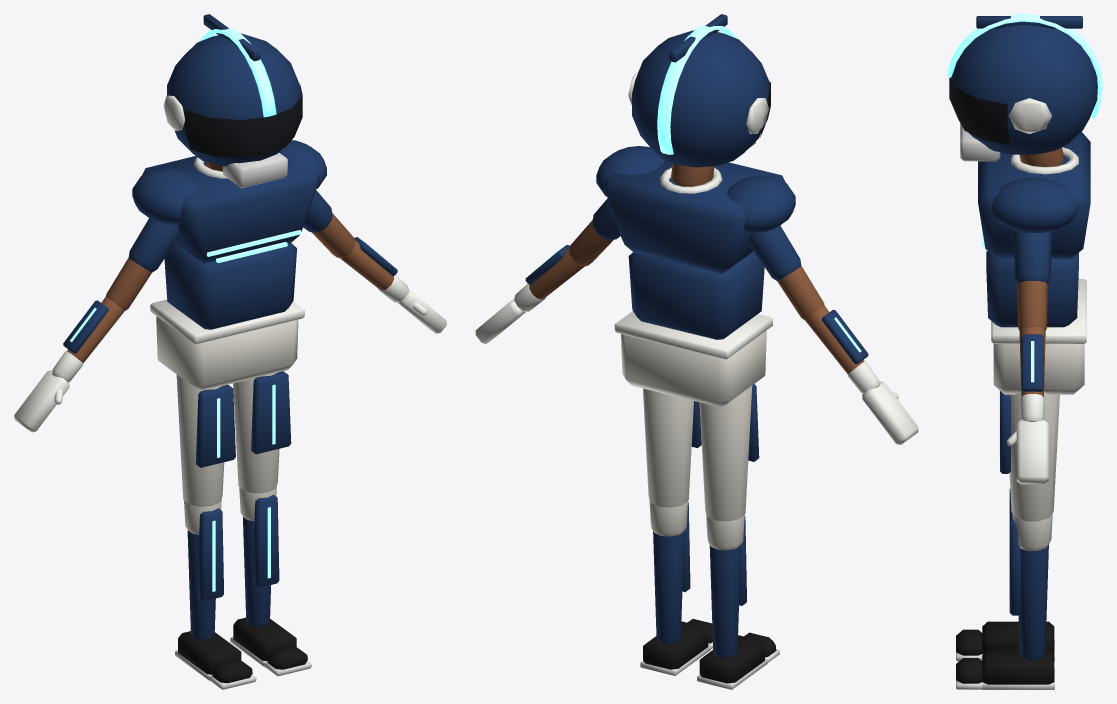
Rendered from future.glb.
The picture shows the model from 3 angles, left to right: view 1: azimuth 30°, elevation 25°; view 2: azimuth 150°, elevation 25°; view 3: azimuth 270°, elevation 25°; orthographic projection. The views are drawn at different scales.
Parts seen in each view (by area): view 1: head, thorax, pelvis, lumbar, thighR, thighL, shankL, shankR, upperArmR, forearmR, forearmL, footL (+6 smaller); view 2: thorax, head, pelvis, lumbar, thighR, thighL, shankL, shankR, upperArmR, forearmR, footR, footL (+5 smaller); view 3: head, thorax, shankL, pelvis, lumbar, thighL, upperArmL, footL, forearmL, handL, footR, toesL (+2 smaller).
Part boxes in pixels (<box>): head: <box>163,14,302,188</box>; thorax: <box>132,140,326,263</box>; pelvis: <box>150,299,304,391</box>; lumbar: <box>164,243,296,329</box>; thighR: <box>176,374,235,506</box>; thighL: <box>233,371,291,493</box>; shankL: <box>239,486,279,626</box>; shankR: <box>184,500,223,640</box>; upperArmR: <box>106,218,179,310</box>; forearmR: <box>52,296,124,382</box>; forearmL: <box>340,237,408,302</box>; footL: <box>230,617,296,667</box>; thorax: <box>596,146,795,273</box>; head: <box>628,14,770,167</box>; pelvis: <box>614,311,772,407</box>; lumbar: <box>628,251,764,339</box>; thighR: <box>699,384,759,521</box>; thighL: <box>643,388,701,507</box>; shankL: <box>649,500,690,644</box>; shankR: <box>706,514,746,657</box>; upperArmR: <box>749,225,824,320</box>; forearmR: <box>805,305,879,393</box>; footR: <box>697,635,767,689</box>; footL: <box>640,621,710,675</box>; head: <box>947,14,1102,161</box>; thorax: <box>978,131,1090,258</box>; shankL: <box>1009,513,1052,660</box>; pelvis: <box>991,279,1086,394</box>; lumbar: <box>986,251,1078,327</box>; thighL: <box>999,391,1059,521</box>; upperArmL: <box>1013,230,1051,330</box>; footL: <box>982,649,1054,689</box>; forearmL: <box>1019,327,1045,421</box>; handL: <box>1006,419,1048,484</box>; footR: <box>982,621,1054,660</box>; toesL: <box>956,658,983,689</box>.
Bounding box in the file's own units: 1.45 × 2.05 × 0.4432.
